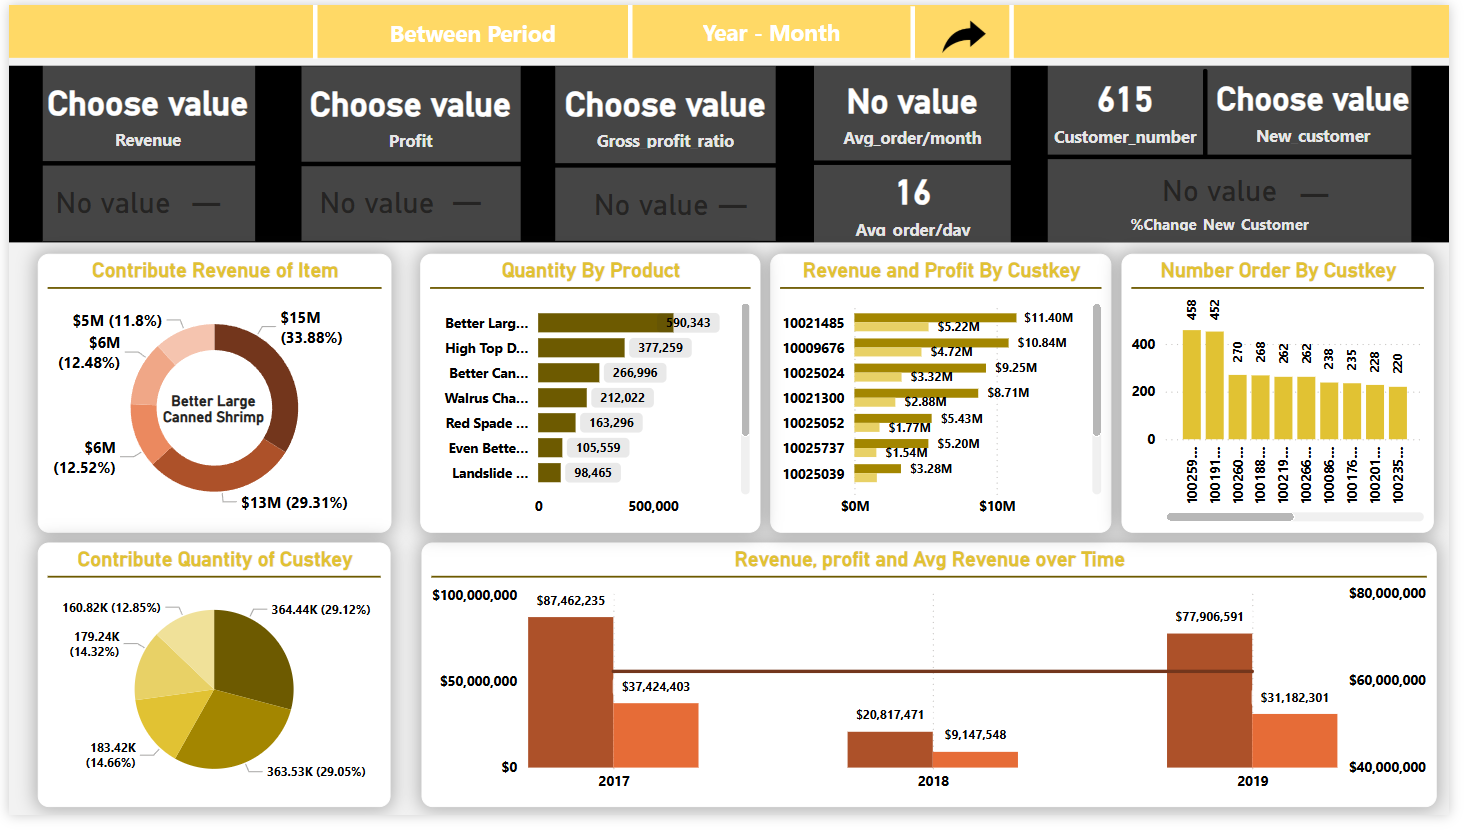

What the dashboard file says about the page in this screenshot:
{"tool":"powerbi","page":{"name":"Dashboard","canvas":[1280,720],"ordinal":0},"visuals":[{"type":"group","id":"g1","title":"Group 4","box":[710.2,50.7,182.2,162.2],"z":0},{"type":"shape","box":[715.9,50.7,174.9,162.2],"z":0,"group":"g1"},{"type":"shape","box":[923.7,52.9,323.5,157.8],"z":0,"group":"g7"},{"type":"shape","box":[29.8,53.4,189.1,156.7],"z":0,"group":"g4"},{"type":"group","id":"g2","title":"Group 2","box":[247.6,53.4,212.2,156.7],"z":0,"group":"g5"},{"type":"group","id":"g3","title":"Group 3","box":[483.9,54,202.2,155.6],"z":0,"group":"g6"},{"type":"shape","box":[486.4,54,195.9,155.6],"z":0,"group":"g3"},{"type":"shape","box":[260.1,54.7,194.8,155.3],"z":0,"group":"g2"},{"type":"card","fields":{"Values":["Sales_data.%Change_New_Customer"]},"box":[984,139.8,186,65.6],"z":0,"group":"g8"},{"type":"donutChart","title":"Contribute Revenue of Item","fields":{"Y":["Sales_data.Total_Revenue (for chart)"],"Category":["Sales_data.Item"]},"box":[25.3,221,314.4,247.8],"z":0,"group":"g9"},{"type":"card","fields":{"Values":["Sales_data.Total_customer_number"]},"box":[915.9,50.7,153.5,81.4],"z":1000,"group":"g7"},{"type":"group","id":"g4","title":"Group 1","box":[24.6,53.4,198.9,156.7],"z":1000},{"type":"card","fields":{"Values":["Sales_data.Profit"]},"box":[256.9,53.4,201,85.1],"z":1000,"group":"g2"},{"type":"card","fields":{"Values":["Sales_data.Total_revenue(after_discount)"]},"box":[25.1,54.2,198.4,81.5],"z":1000,"group":"g4"},{"type":"card","fields":{"Values":["Sales_data.Gross_profit_ratio"]},"box":[488.5,59.7,191.8,72.3],"z":1000,"group":"g3"},{"type":"card","fields":{"Values":["Sales_data.Avg_order"]},"box":[734.2,138.8,138.2,71.5],"z":1000,"group":"g1"},{"type":"card","fields":{"Values":["Sales_data.New_customer_change_Icon"]},"box":[1133.3,146.7,56.3,41.1],"z":1000,"group":"g8"},{"type":"card","fields":{"Values":["Sales_data.Profit_Icon"]},"box":[382.3,155.1,49.6,40.3],"z":1000,"group":"g5"},{"type":"card","fields":{"Values":["Sales_data.Gross_profit_Icon"]},"box":[618.6,155.7,51.3,40.8],"z":1000,"group":"g6"},{"type":"card","fields":{"Values":["Sales_data.Name_top_product"]},"box":[125.6,330.3,112.8,60.5],"z":1000,"group":"g9"},{"type":"group","id":"g5","title":"Group 5","box":[247.6,53.4,212.2,156.7],"z":2000},{"type":"card","fields":{"Values":["Sales_data.Avg_order_per_month"]},"box":[715.8,54.6,175.1,75.1],"z":2000,"group":"g1"},{"type":"card","fields":{"Values":["Sales_data.New_customer(display)"]},"box":[1064.7,54.6,189.8,72.5],"z":2000,"group":"g7"},{"type":"shape","box":[256.6,135.8,203.2,11.5],"z":2000,"group":"g2"},{"type":"card","fields":{"Values":["Sales_data.Revenue_Change"]},"box":[35.6,155.6,114.5,38.5],"z":2000,"group":"g4"},{"type":"card","fields":{"Values":["Sales_data.Gross_profit change"]},"box":[499.8,160.1,144.6,32.1],"z":2000,"group":"g3"},{"type":"group","id":"g6","title":"Group 6","box":[483.9,54,202.2,155.6],"z":3000},{"type":"shape","box":[916.5,127.7,331.1,14.4],"z":3000,"group":"g7"},{"type":"shape","box":[710.2,130.5,182.2,18.1],"z":3000,"group":"g1"},{"type":"shape","box":[483.9,132.7,202.2,18.5],"z":3000,"group":"g3"},{"type":"shape","box":[24.6,134.6,197.3,12.6],"z":3000,"group":"g4"},{"type":"card","fields":{"Values":["Sales_data.Profit_Change"]},"box":[247.6,156.1,159.1,38.2],"z":3000,"group":"g2"},{"type":"shape","box":[1046,56,35.6,77.9],"z":4000,"group":"g7"},{"type":"card","fields":{"Values":["Sales_data.Revenue_Icon"]},"box":[149,154.6,52.8,40.6],"z":4000,"group":"g4"},{"type":"lineClusteredColumnComboChart","title":"Revenue, profit and Avg Revenue over Time ","fields":{"Y":["Sales_data.Total_revenue(after_discount)","Sales_data.Profit"],"Y2":["Sales_data.Average_Revenue (Month)"],"Category":["Date.Date.Variation.Date Hierarchy.Year","Date.Date.Variation.Date Hierarchy.Quarter","Date.Date.Variation.Date Hierarchy.Month","Date.Date.Variation.Date Hierarchy.Day"]},"box":[366.3,477.9,902.3,234.9],"z":4000},{"type":"group","id":"g7","title":"Group 8","box":[915.9,50.7,338.7,160],"z":5000},{"type":"group","id":"g8","title":"Group 7","box":[984,139.8,205.6,65.6],"z":5000,"group":"g7"},{"type":"group","id":"g9","title":"Slicer revenue contribute","box":[25.3,221,314.4,247.8],"z":6000},{"type":"clusteredBarChart","title":"Revenue and Profit By Custkey","fields":{"Category":["Sales_data.Custkey"],"Y":["Sales_data.Total_Revenue (for chart)","Sales_data.Profit (for chart)"]},"box":[676.9,220.9,303.5,247.7],"z":7000},{"type":"clusteredBarChart","title":"Quantity By Product","fields":{"Category":["Sales_data.Item"],"Y":["Sales_data.Total_quantity"]},"box":[365.4,220.9,302.3,247.7],"z":8000},{"type":"clusteredColumnChart","title":"Number Order By Custkey","fields":{"Category":["Sales_data.Custkey"],"Y":["Sales_data.Total_order_number"]},"box":[989.4,220.9,277.9,247.7],"z":9000},{"type":"pieChart","title":"Contribute Quantity of Custkey","fields":{"Category":["Sales_data.Custkey"],"Y":["Sales_data.Total_quantity"]},"box":[25.7,477.9,314,234.9],"z":10000},{"type":"actionButton","title":"Year-Month button","box":[554.4,0,246.7,47.8],"z":11000},{"type":"actionButton","title":"Between button","box":[272.2,1.1,280,47.8],"z":13000},{"type":"image","box":[803,0,91,56],"z":16000},{"type":"shape","box":[247.8,0,48.9,47.8],"z":18000},{"type":"shape","box":[527.8,0,48.9,47.8],"z":19000},{"type":"shape","box":[778.9,1.1,48.9,47.8],"z":20000},{"type":"shape","box":[867,0,49,48],"z":21000}]}

Visuals, with their boxes in screenshot pixels (x1, y1, x2, y2), scaled from the page's 1280x720 canvas onto the 1465x831 screenshot:
"Group 4" group: 813/59/1021/246
shape: 819/59/1020/246
shape: 1057/61/1427/243
shape: 34/62/251/242
"Group 2" group: 283/62/526/242
"Group 3" group: 554/62/785/242
shape: 557/62/781/242
shape: 298/63/521/242
card - Sales_data.%Change_New_Customer: 1126/161/1339/237
"Contribute Revenue of Item" donutChart: 29/255/389/541
card - Sales_data.Total_customer_number: 1048/59/1224/152
"Group 1" group: 28/62/256/242
card - Sales_data.Profit: 294/62/524/160
card - Sales_data.Total_revenue(after_discount): 29/63/256/157
card - Sales_data.Gross_profit_ratio: 559/69/779/152
card - Sales_data.Avg_order: 840/160/998/243
card - Sales_data.New_customer_change_Icon: 1297/169/1362/217
card - Sales_data.Profit_Icon: 438/179/494/226
card - Sales_data.Gross_profit_Icon: 708/180/767/227
card - Sales_data.Name_top_product: 144/381/273/451
"Group 5" group: 283/62/526/242
card - Sales_data.Avg_order_per_month: 819/63/1020/150
card - Sales_data.New_customer(display): 1219/63/1436/147
shape: 294/157/526/170
card - Sales_data.Revenue_Change: 41/180/172/224
card - Sales_data.Gross_profit change: 572/185/738/222
"Group 6" group: 554/62/785/242
shape: 1049/147/1428/164
shape: 813/151/1021/172
shape: 554/153/785/175
shape: 28/155/254/170
card - Sales_data.Profit_Change: 283/180/465/224
shape: 1197/65/1238/155
card - Sales_data.Revenue_Icon: 171/178/231/225
"Revenue, profit and Avg Revenue over Time " lineClusteredColumnComboChart: 419/552/1452/823
"Group 8" group: 1048/59/1436/243
"Group 7" group: 1126/161/1362/237
"Slicer revenue contribute" group: 29/255/389/541
"Revenue and Profit By Custkey" clusteredBarChart: 775/255/1122/541
"Quantity By Product" clusteredBarChart: 418/255/764/541
"Number Order By Custkey" clusteredColumnChart: 1132/255/1450/541
"Contribute Quantity of Custkey" pieChart: 29/552/389/823
"Year-Month button" actionButton: 635/0/917/55
"Between button" actionButton: 312/1/632/56
image: 919/0/1023/65
shape: 284/0/340/55
shape: 604/0/660/55
shape: 891/1/947/56
shape: 992/0/1048/55
